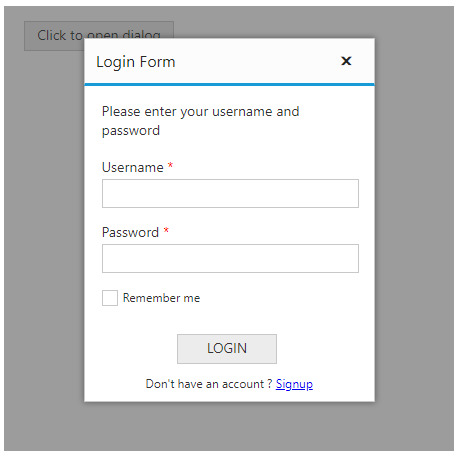_form_: (1, 1, 416, 416)
button: (175, 332, 279, 365)
checkbox: (100, 288, 120, 308)
checkbox_with_label: (98, 287, 201, 309)
field: (101, 177, 360, 210), (100, 243, 360, 275)
field_with_label: (99, 160, 363, 212), (99, 226, 362, 276)
